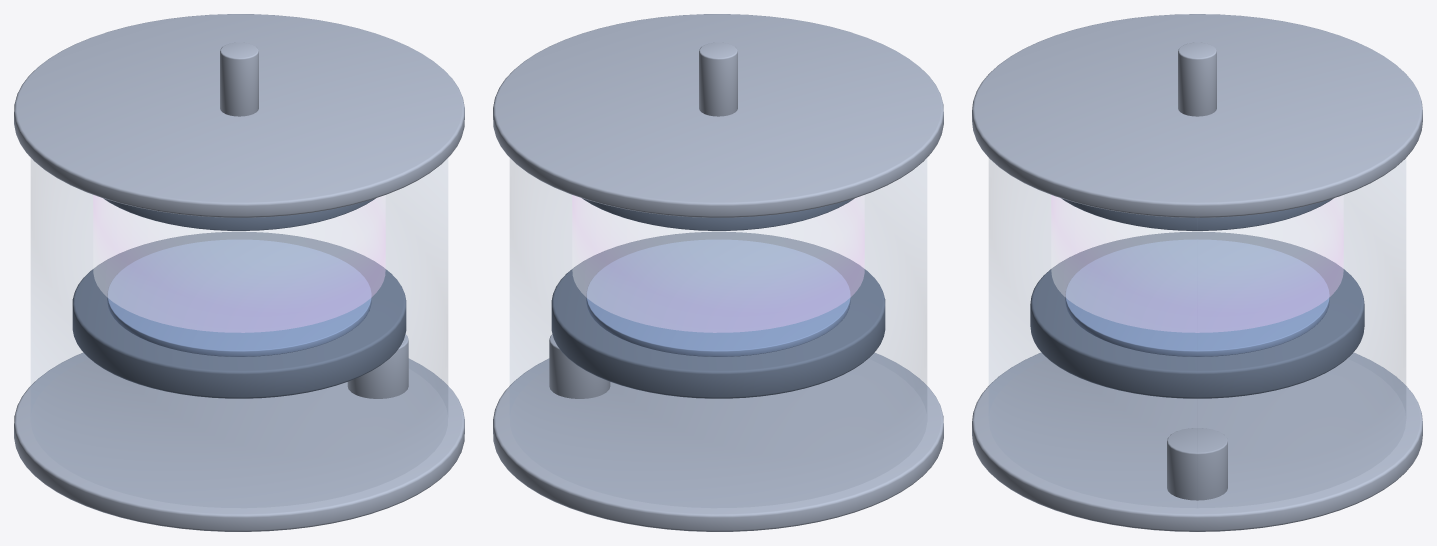
Rendered from etch-chamber.glb.
3 renders of one model, left to right at view 1: azimuth 30°, elevation 25°; view 2: azimuth 150°, elevation 25°; view 3: azimuth 270°, elevation 25°, orthographic.
Parts seen in each view (by area): view 1: lid, base, plasma, chamber, wafer, lower, shower, inlet, exhaust; view 2: lid, base, plasma, chamber, wafer, lower, shower, inlet, exhaust; view 3: lid, base, plasma, chamber, wafer, lower, exhaust, shower, inlet.
Part boxes in pixels (bbox=[...]): lid: bbox=[14, 14, 464, 217]; base: bbox=[14, 352, 464, 531]; plasma: bbox=[93, 195, 385, 332]; chamber: bbox=[31, 159, 447, 412]; wafer: bbox=[107, 239, 371, 356]; lower: bbox=[72, 231, 406, 398]; shower: bbox=[103, 198, 375, 230]; inlet: bbox=[220, 42, 258, 116]; exhaust: bbox=[347, 334, 408, 398]; lid: bbox=[493, 14, 943, 217]; base: bbox=[493, 352, 943, 531]; plasma: bbox=[572, 195, 864, 332]; chamber: bbox=[510, 159, 926, 412]; wafer: bbox=[586, 239, 850, 356]; lower: bbox=[551, 231, 885, 398]; shower: bbox=[582, 198, 854, 230]; inlet: bbox=[699, 42, 737, 116]; exhaust: bbox=[549, 334, 610, 398]; lid: bbox=[972, 14, 1422, 217]; base: bbox=[972, 352, 1422, 531]; plasma: bbox=[1051, 195, 1343, 332]; chamber: bbox=[989, 159, 1405, 412]; wafer: bbox=[1065, 239, 1329, 356]; lower: bbox=[1030, 231, 1364, 398]; exhaust: bbox=[1167, 428, 1227, 500]; shower: bbox=[1061, 198, 1333, 230]; inlet: bbox=[1178, 42, 1216, 116].
Size of the model in its own units: 3.24 by 3.07 by 3.24.
